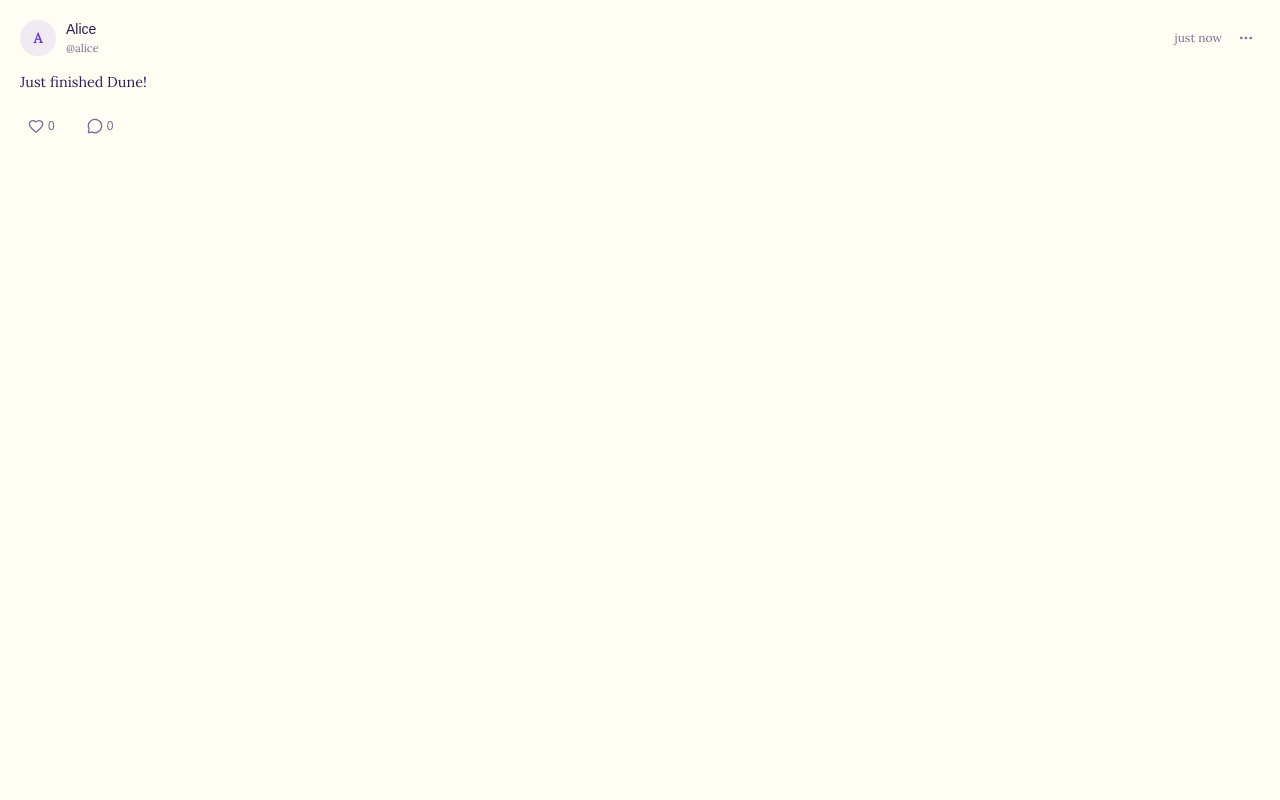
Test: PostCard — delete › opens the confirmation dialog when Delete post is clicked
The image size is (1280, 800).
Click the button named "Post options". click: [1246, 38]
box: left=1232, top=24, right=1260, bottom=52
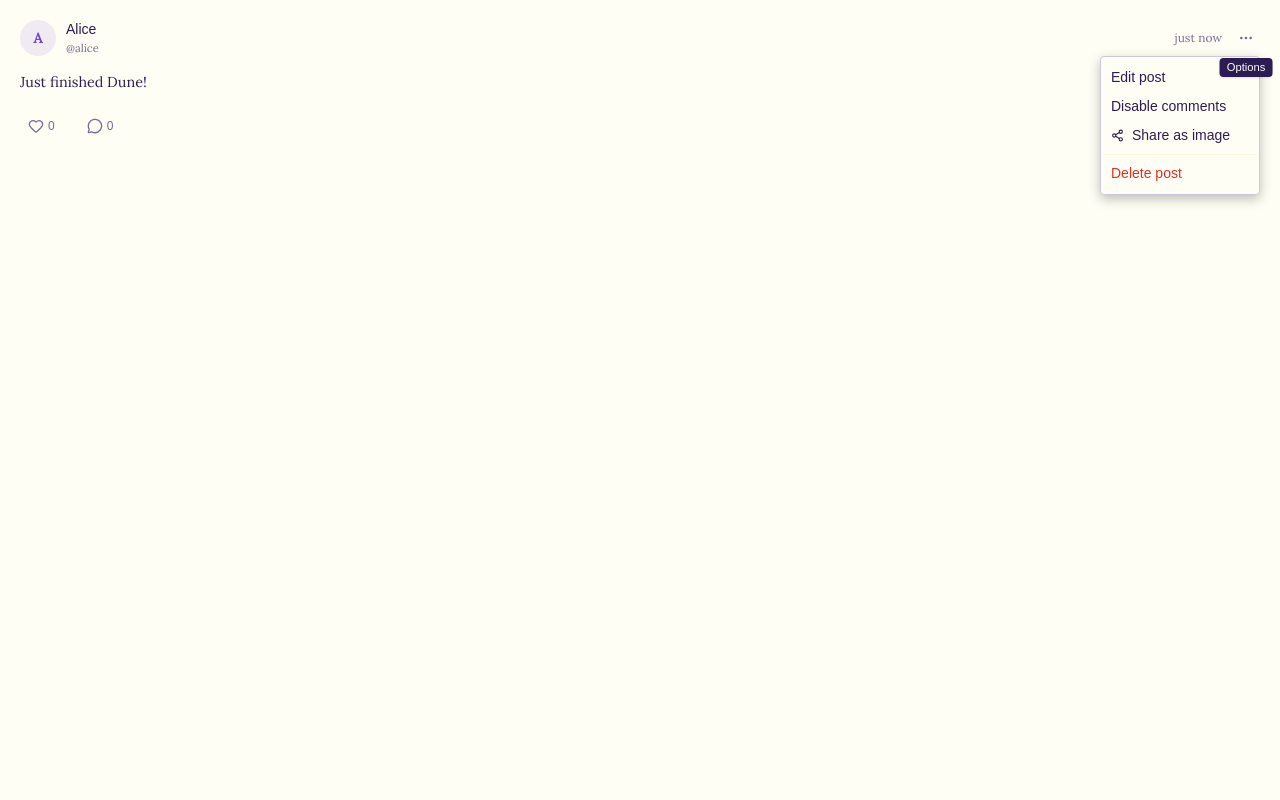
Click the menu item "Delete post". click: [1146, 173]
box: left=1111, top=165, right=1182, bottom=181
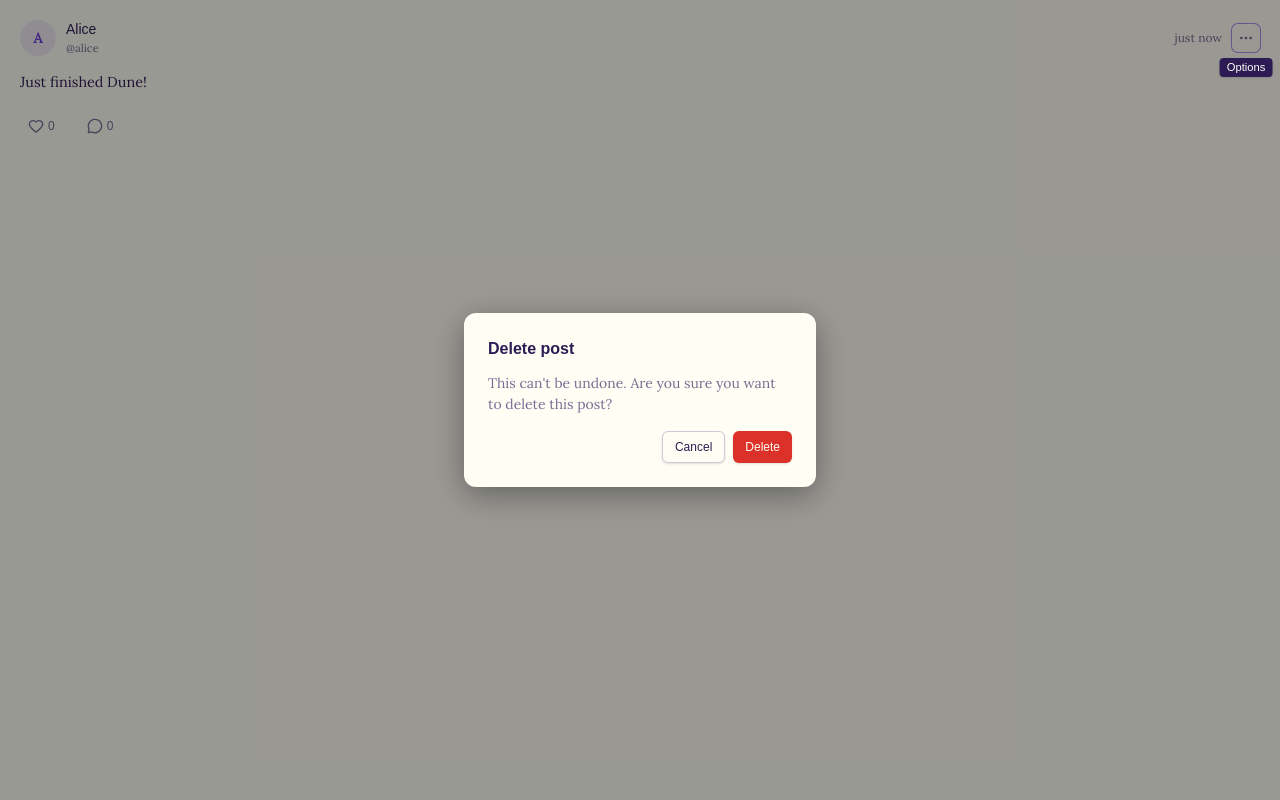
Expected: the heading "Delete post" is shown, left=488, top=340, right=574, bottom=357
Expected: the text "can't be undone" is shown, left=488, top=374, right=776, bottom=413
Expected: the button "Cancel" is shown, left=662, top=431, right=725, bottom=463
